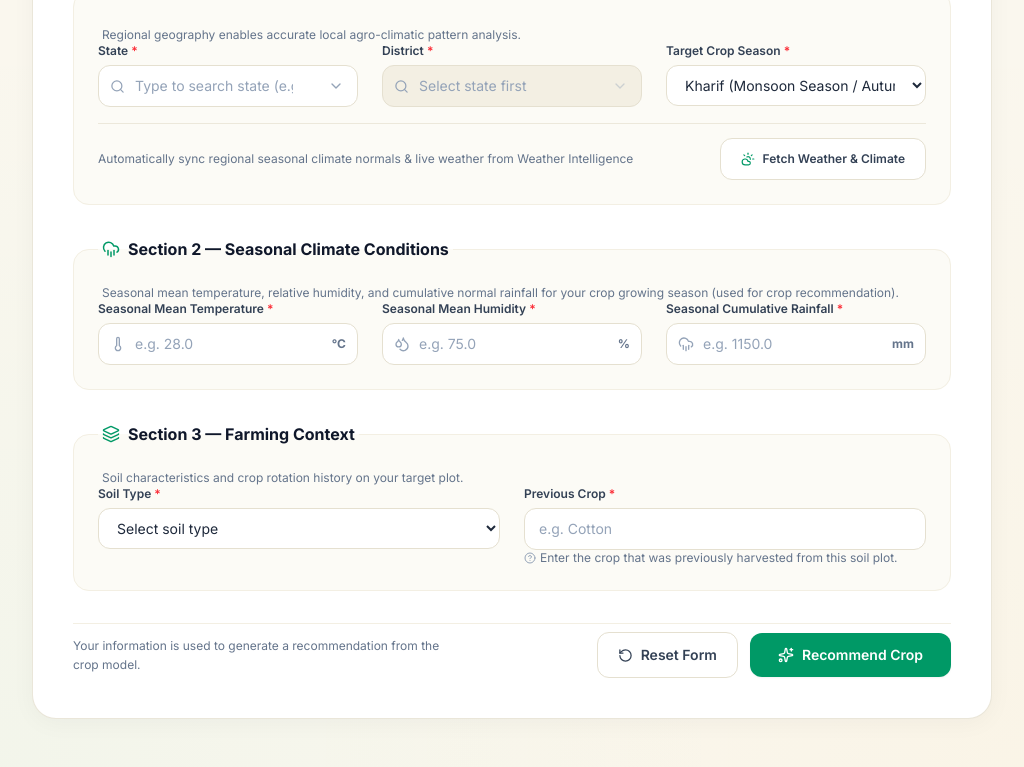
Test: Crop Recommendation Form UI — Step 3 Fields and Validation › validates empty inputs and blocks form submission
The width and height of the screenshot is (1024, 767).
(page scrolled)
Click the button "Recommend Crop": (850, 655) [750,633,951,677]
(page scrolled)
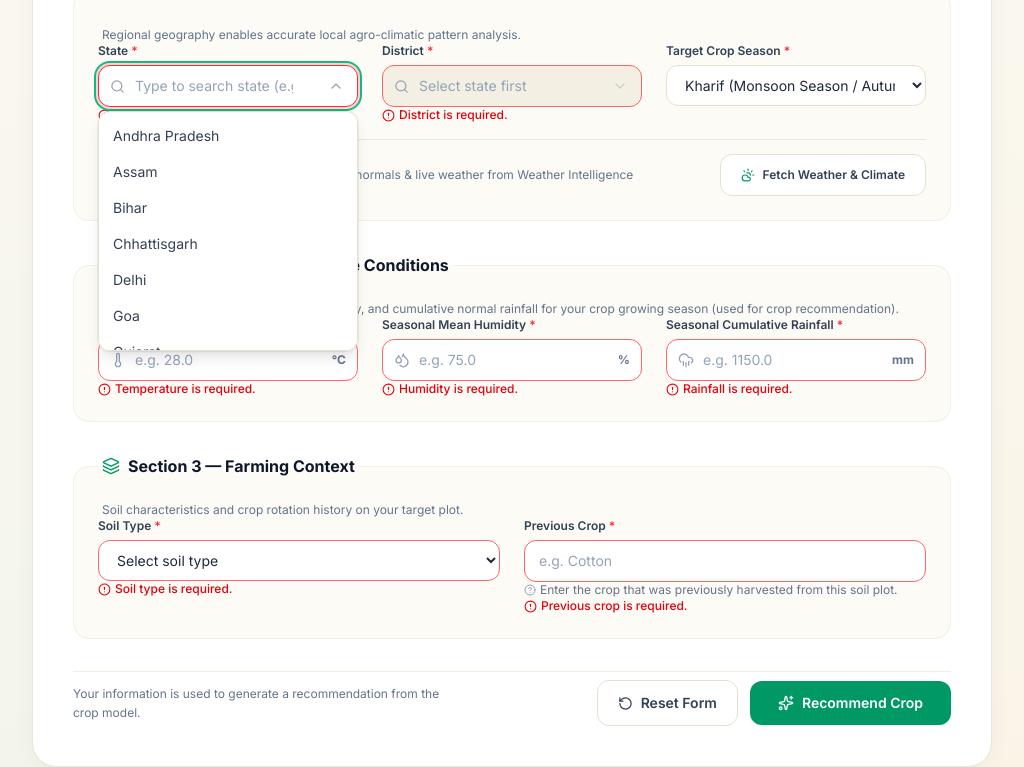
expect the text "State is required." is shown: met, box [115,107,212,123]
expect the text "District is required." is shown: met, box [399,107,508,123]
expect the text "Temperature is required." is shown: met, box [115,381,256,397]
